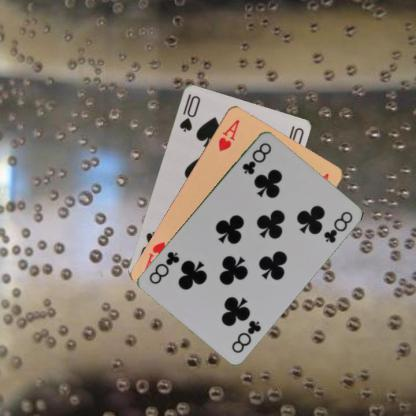10s: (176, 91, 202, 133)
8c: (239, 139, 273, 176), (229, 317, 263, 354)
Ah: (215, 116, 241, 153)
